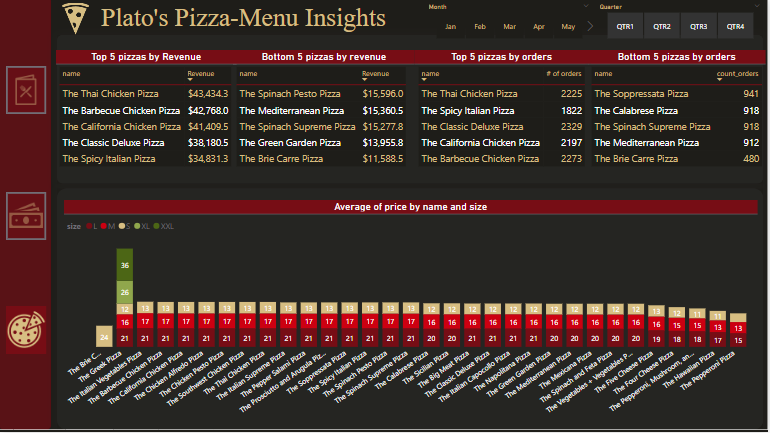

The page's visual inventory and layout, read from the dashboard file:
{"tool":"powerbi","page":{"name":"Pizza details","canvas":[1280,720],"ordinal":2},"visuals":[{"type":"textbox","box":[162.9,0,657.1,71.4],"z":0},{"type":"image","box":[87.7,0,75,62.2],"z":7000},{"type":"slicer","fields":{"Values":["Calendar.Month"]},"box":[701.6,0,292.9,71],"z":8000},{"type":"actionButton","box":[10,320,67.1,80],"z":10000},{"type":"actionButton","box":[10,110,67.1,80],"z":11000},{"type":"actionButton","box":[10,510,67.1,80],"z":12000},{"type":"tableEx","title":"Top 5 pizzas by Revenue","fields":{"Values":["pizza_types.name","Measures (2).Revenue"]},"box":[93.8,83.3,300.8,212.2],"z":12001},{"type":"tableEx","title":"Bottom 5 pizzas by revenue","fields":{"Values":["pizza_types.name","Measures (2).Revenue"]},"box":[388.5,83.3,303.4,212.2],"z":12002},{"type":"tableEx","title":"Top 5 pizzas by orders","fields":{"Values":["pizza_types.name","Measures (2).count_orders"]},"box":[691.9,83.3,288.5,201.7],"z":12003},{"type":"tableEx","title":"Bottom 5 pizzas by orders","fields":{"Values":["pizza_types.name","Measures (2).count_orders"]},"box":[980.5,83.3,295.5,201.7],"z":12004},{"type":"slicer","fields":{"Values":["Calendar.Quarter"]},"box":[987.1,0,292.9,71.4],"z":12005},{"type":"columnChart","fields":{"Series":["pizzas.size"],"Y":["Avg(pizzas.price)"],"Category":["pizza_types.name"]},"box":[106.1,333.3,1155.9,386.7],"z":12006}]}

Visuals, with their boxes in screenshot pixels (x1, y1, x2, y2), scaled from the page's 1280x720 canvas onto the 770x433 screenshot:
textbox: (left=98, top=0, right=493, bottom=43)
image: (left=53, top=0, right=98, bottom=37)
slicer - Calendar.Month: (left=422, top=0, right=598, bottom=43)
actionButton: (left=6, top=192, right=46, bottom=241)
actionButton: (left=6, top=66, right=46, bottom=114)
actionButton: (left=6, top=307, right=46, bottom=355)
"Top 5 pizzas by Revenue" tableEx: (left=56, top=50, right=237, bottom=178)
"Bottom 5 pizzas by revenue" tableEx: (left=234, top=50, right=416, bottom=178)
"Top 5 pizzas by orders" tableEx: (left=416, top=50, right=590, bottom=171)
"Bottom 5 pizzas by orders" tableEx: (left=590, top=50, right=768, bottom=171)
slicer - Calendar.Quarter: (left=594, top=0, right=769, bottom=43)
columnChart - pizzas.size x Avg(pizzas.price): (left=64, top=200, right=759, bottom=432)
